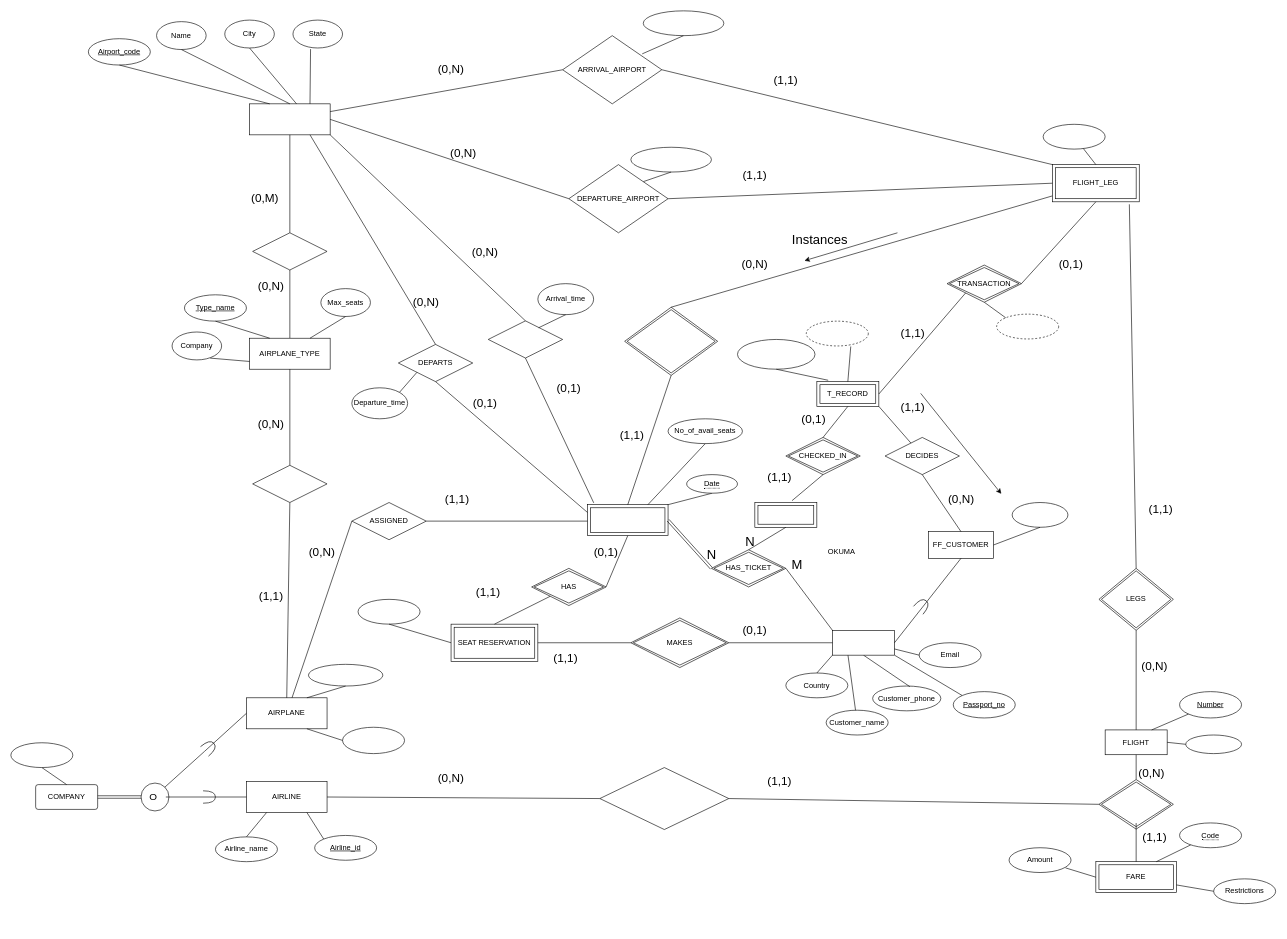
The diagram is 1287 pixels wide and 939 high, and some of its shapes have lost their labels. Each missing label, with the centre of its shape:
Airplane_id: (373,740)
AIRPORT: (289,119)
ARRANGES: (664,798)
ARRIVES: (525,339)
CAN_LAND: (289,251)
CHECK_IN: (785,514)
Company_name: (41,755)
CUSTOMER: (863,642)
FARES: (1135,804)
Flight_time: (1027,326)
INSTANCE_OF: (671,341)
LEG_INSTANCE: (627,520)
Leg_no: (1074,136)
Mileage_information: (776,354)
Rank: (1040,514)
Scheduled_arr_time: (683,23)
Scheduled_dep_time: (670,159)
Seat_number: (388,611)
Total_mil_point: (837,333)
Total_no_of_seats: (345,675)
TYPE: (289,484)
Weekdays: (1213,744)
